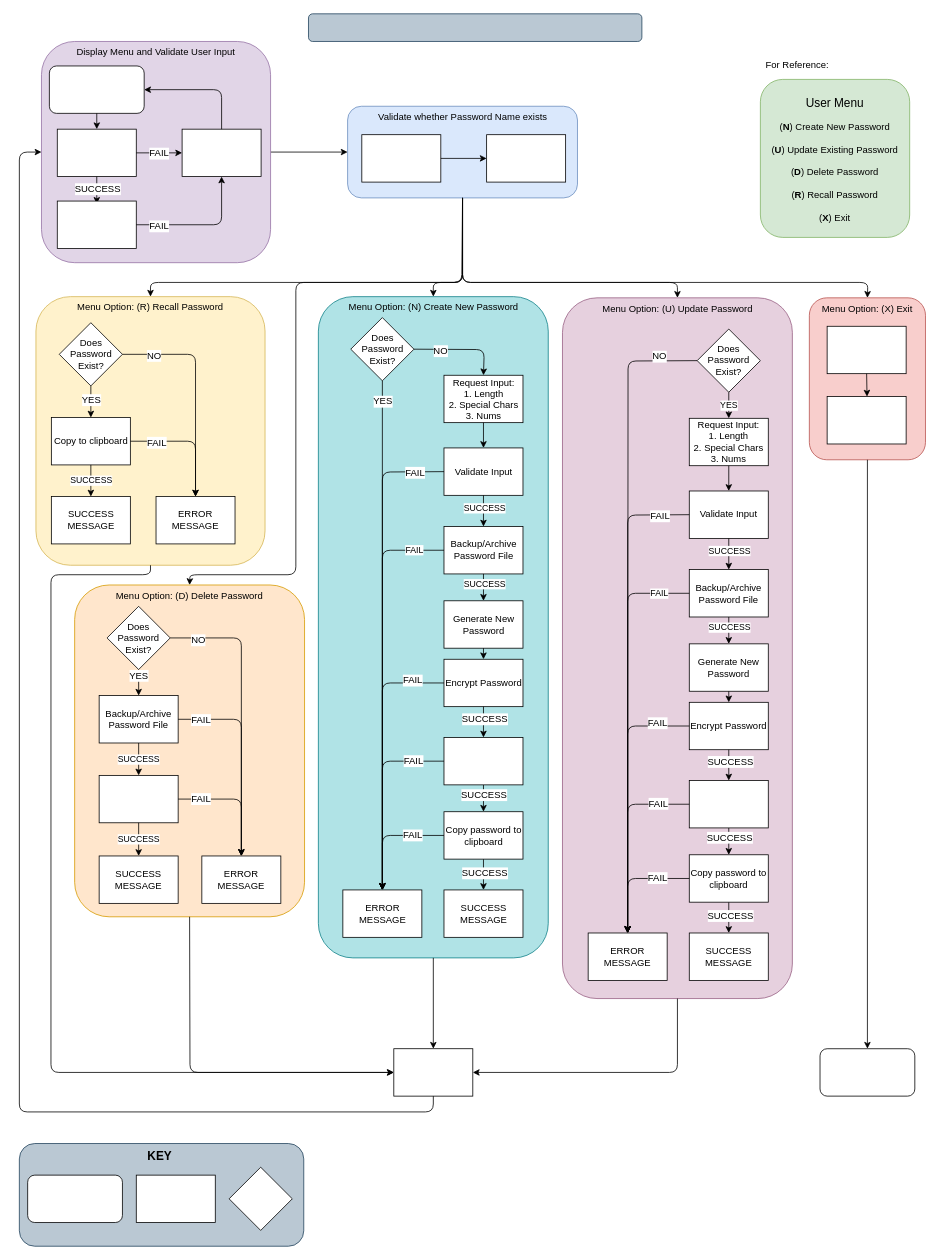
This 939x1260 diagram has some shape labels left out. The centre of each missing label's shape, as x and y in pixels:
Add password to the file: the point at 483,761
Decision: the point at 260,1198
Delete Password from file: the point at 138,799
Display Error Message: the point at 221,152
Display User Message: the point at 866,349
EXIT: the point at 867,1072
Exit Program: the point at 866,420
Find password: the point at 401,158
FLOW START/END: the point at 74,1198
Go Back to Start Menu: the point at 433,1072
Password Terminal Application Process Flow: the point at 475,27
Process: the point at 175,1198
Set password exists flag to TRUE/FALSE: the point at 526,158
Start Menu: the point at 96,89
Update password in the file: the point at 728,804
Validate Menu Choice: the point at 96,152
Validate Password Name: the point at 96,224
